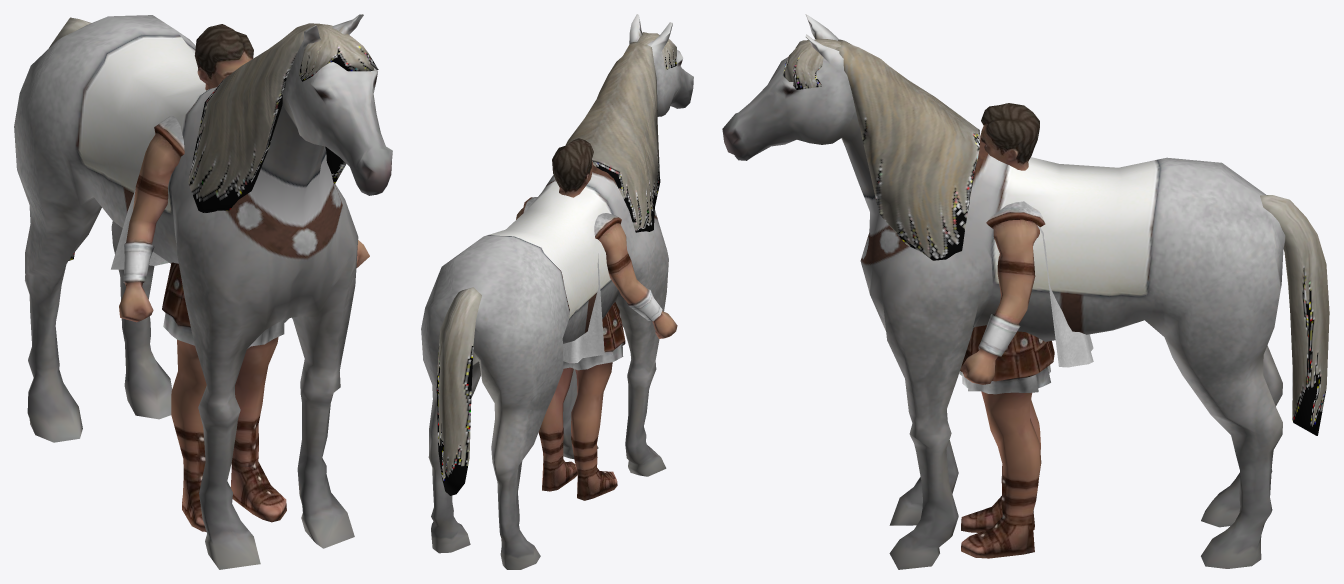
File: 2-hippeus.glb
3 views of the same model, side by side, from view 1: azimuth 30°, elevation 25°; view 2: azimuth 150°, elevation 25°; view 3: azimuth 270°, elevation 25° (orthographic). The views are drawn at different scales.
Bounding box in the file's own units: 1.14 × 2.52 × 2.69.
Materials: 2 (2 with a texture image).
